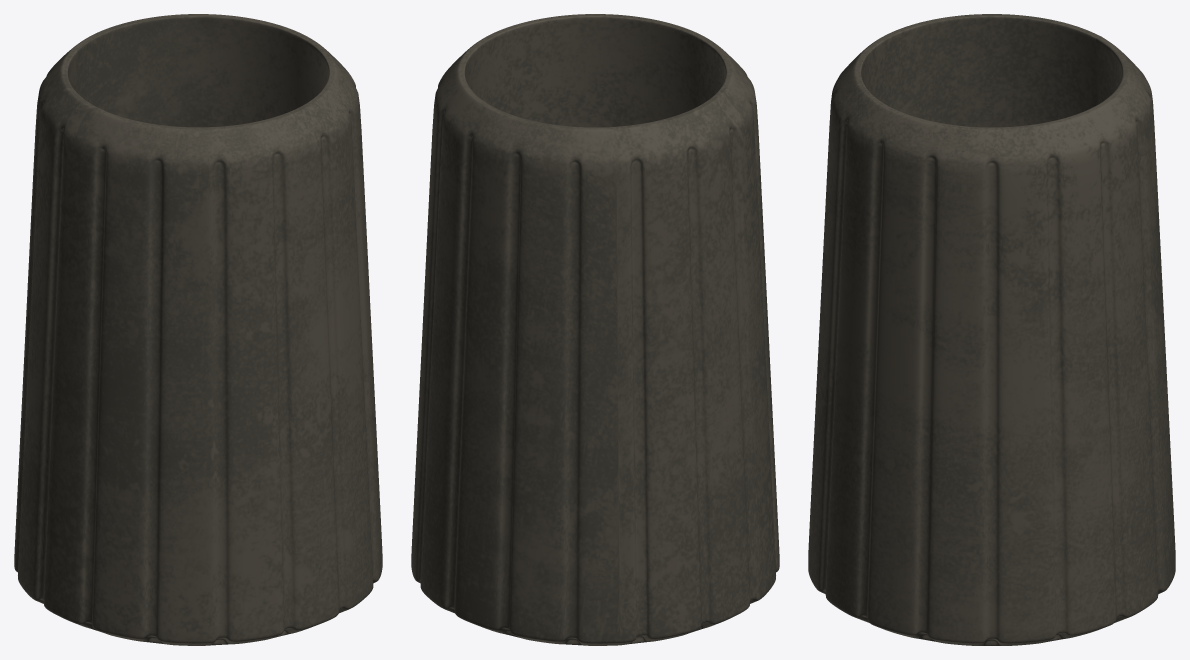
File: Trashcan.obj
3 views of the same model, side by side, from view 1: azimuth 30°, elevation 25°; view 2: azimuth 150°, elevation 25°; view 3: azimuth 270°, elevation 25° (orthographic).
Parts seen in each view (by area): view 1: Trashcan_Cylinder; view 2: Trashcan_Cylinder; view 3: Trashcan_Cylinder.
Boxes of the visible parts, <box> form: Trashcan_Cylinder: <box>14,14,382,645</box>; Trashcan_Cylinder: <box>411,14,779,645</box>; Trashcan_Cylinder: <box>808,14,1175,645</box>.
Bounding box in the file's own units: 2.27 × 3.44 × 2.27.
